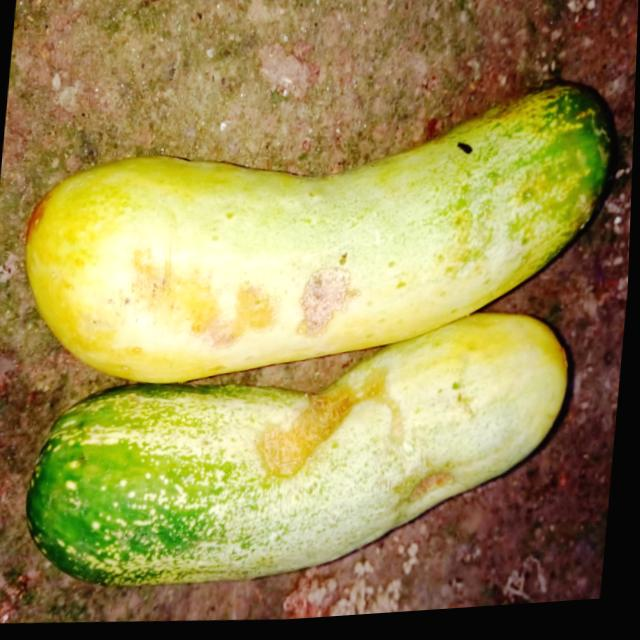Belly-Rot: (122, 231, 291, 367), (259, 360, 418, 496), (298, 261, 364, 348), (407, 468, 460, 519)
